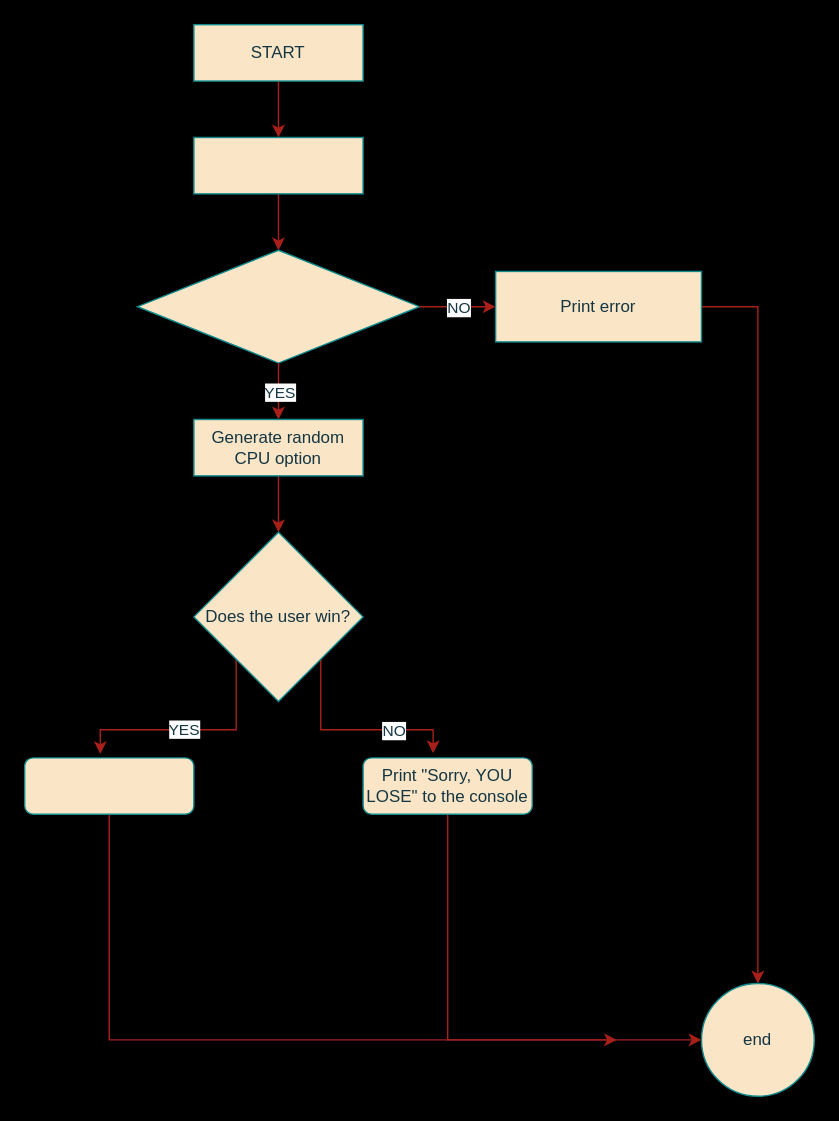
The diagram is 839 pixels wide and 1121 high, and some of its shapes have lost their labels. Each missing label, with the centre of its shape:
is the user input valid: the point at 277,306
Print YOU WIN to screen: the point at 108,785
Welcome user/prompt for input: the point at 277,165
